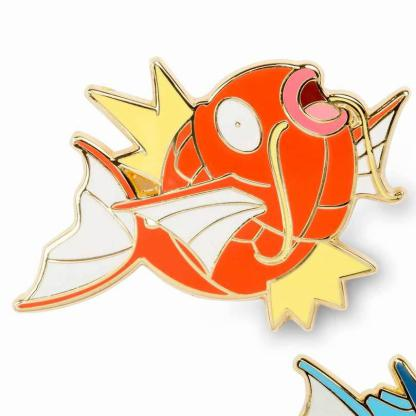Magikarp: (9, 26, 407, 339)
